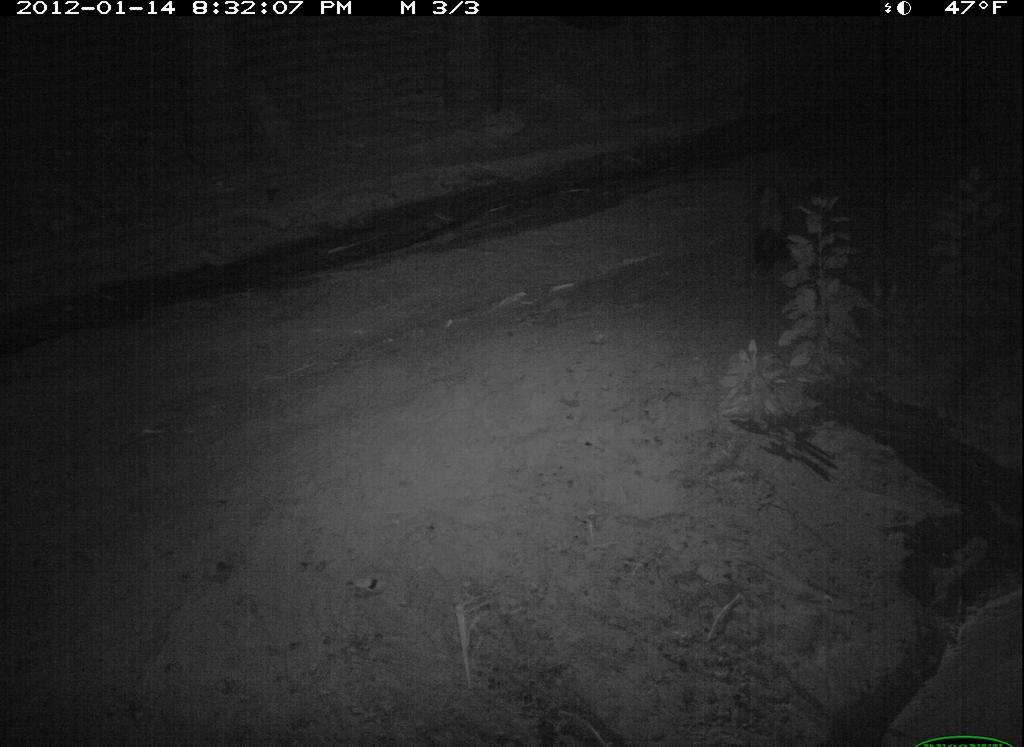skunk: (740, 172, 803, 277)
